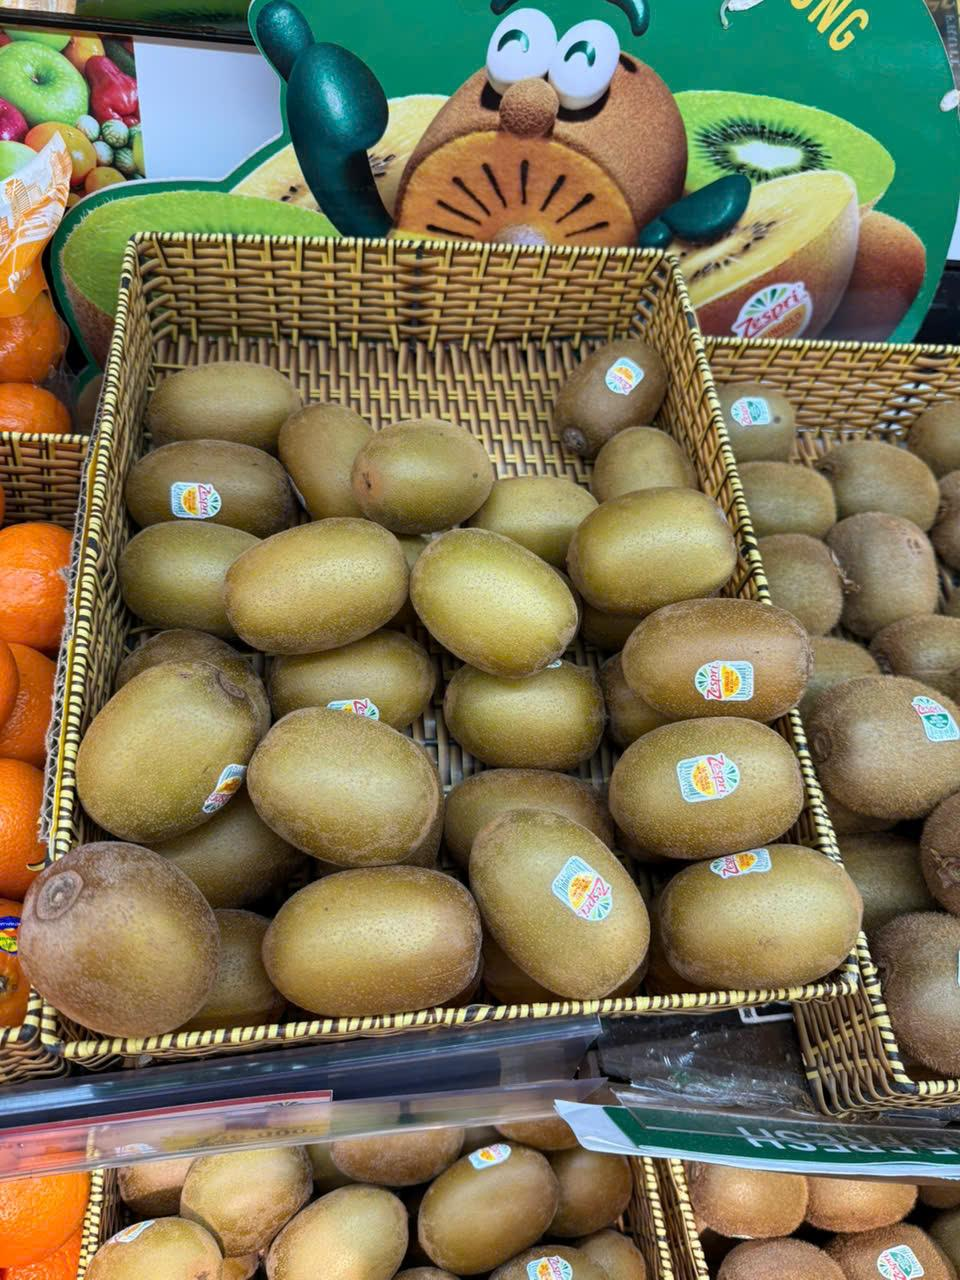kiwi: (468, 795, 659, 1010), (15, 838, 224, 1034), (655, 838, 885, 996), (260, 861, 490, 1010), (235, 693, 436, 862), (75, 658, 254, 834), (210, 520, 417, 664), (412, 511, 586, 675), (615, 716, 810, 858), (620, 596, 830, 726), (573, 483, 763, 606), (127, 428, 295, 530), (348, 415, 494, 524), (130, 356, 291, 439), (122, 520, 240, 622)
